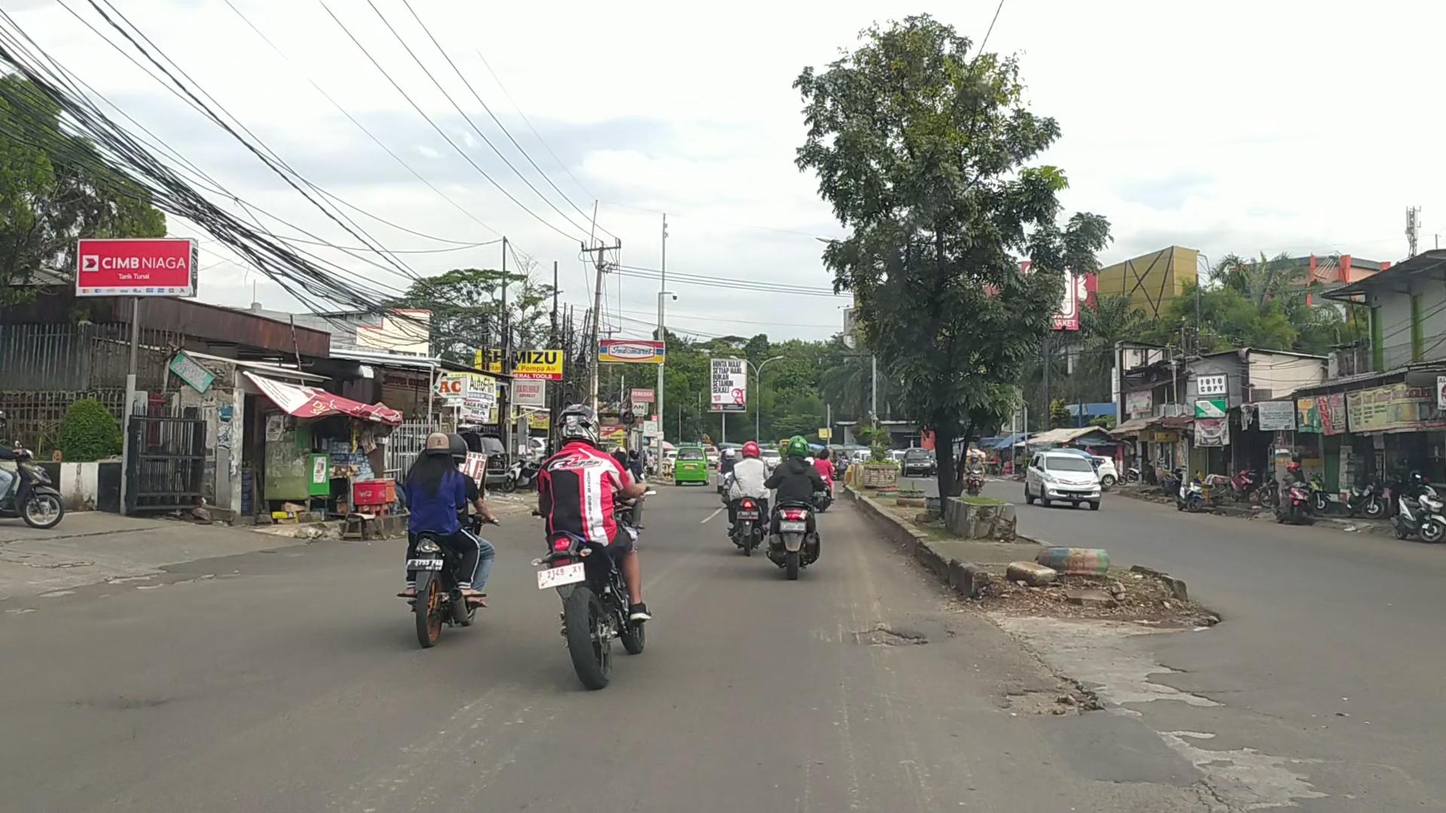pothole: (994, 684, 1102, 721), (852, 625, 927, 648)
